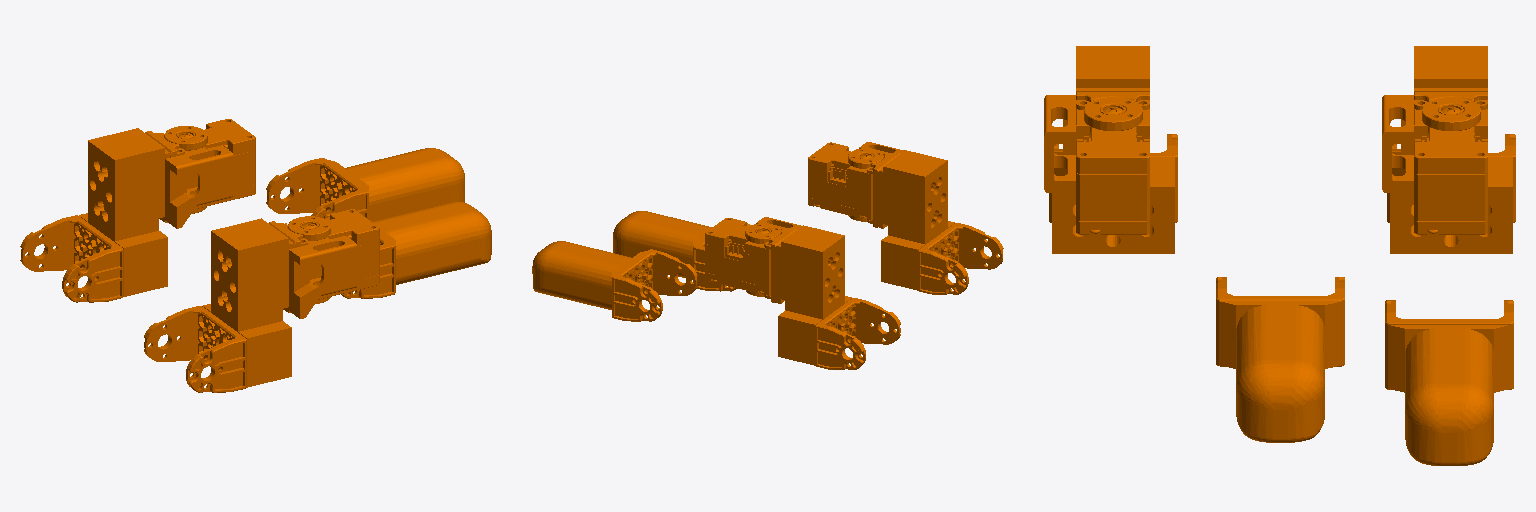
URDF robot description (onshape):
<robot name="onshape">
  <link name="palm_lower">
    <inertial>
      <origin xyz="0.0 0.0 0.0" rpy="0.0 -0.0 0.0"/>
      <mass value="0.237"/>
      <inertia ixx="0.000354094" ixy="-1.193e-06" ixz="-2.445e-06" iyy="0.000260915" iyz="-2.905e-06" izz="0.000529257"/>
    </inertial>
    <visual>
      <geometry>
        <mesh filename="../assets/leap/leap_hand/palm_lower.stl"/>
      </geometry>
      <origin xyz="-0.020095249652862544 0.025757756134899473 -0.034722403578460216" rpy="0.0 -0.0 0.0"/>
      <material name="palm_lower_material">
        <color rgba="0.6039215686274509 0.14901960784313725 0.14901960784313725 1.0"/>
      </material>
    </visual>
    <collision>
      <geometry>
        <mesh filename="../assets/leap/leap_hand/palm_lower.stl"/>
      </geometry>
      <origin xyz="-0.020095249652862544 0.025757756134899473 -0.034722403578460216" rpy="0.0 -0.0 0.0"/>
    </collision>
  </link>
  <link name="mcp_joint_long">
    <inertial>
      <origin xyz="0.0 0.0 0.0" rpy="0.0 -0.0 0.0"/>
      <mass value="0.044"/>
      <inertia ixx="1.1499e-05" ixy="3.049e-06" ixz="1.21e-07" iyy="7.796e-06" iyz="1.12e-07" izz="1.4759e-05"/>
    </inertial>
    <visual>
      <geometry>
        <mesh filename="custom_models/mcp_joint_long.stl"/>
      </geometry>
      <origin xyz="0.008406902261174496 0.0077662438597169954 0.014657354985032912" rpy="1.6375789613221e-15 -1.021047330249102e-30 1.7177968783327987e-31"/>
      <material name="mcp_joint_material">
        <color rgba="0.878 0.467 0.0 1.0"/>
      </material>
    </visual>
    <collision>
      <geometry>
        <mesh filename="custom_models/mcp_joint_long.stl"/>
      </geometry>
      <origin xyz="0.008406902261174496 0.0077662438597169954 0.014657354985032912" rpy="1.6375789613221e-15 -1.021047330249102e-30 1.7177968783327987e-31"/>
    </collision>
  </link>
  <link name="pip">
    <inertial>
      <origin xyz="0.0 0.0 0.0" rpy="0.0 -0.0 0.0"/>
      <mass value="0.032"/>
      <inertia ixx="4.798e-06" ixy="1.2e-08" ixz="4e-09" iyy="2.862e-06" iyz="1.1e-08" izz="4.234e-06"/>
    </inertial>
    <visual>
      <geometry>
        <mesh filename="../assets/leap/leap_hand/pip.stl"/>
      </geometry>
      <origin xyz="0.009643363092271328 0.0002999999999999895 0.0007840340104173765" rpy="-1.5707963267948966 -1.5707963267948963 0.0"/>
      <material name="pip_material">
        <color rgba="0.7490196078431373 0.7490196078431373 0.7490196078431373 1.0"/>
      </material>
    </visual>
    <collision>
      <geometry>
        <mesh filename="../assets/leap/leap_hand/pip.stl"/>
      </geometry>
      <origin xyz="0.009643363092271328 0.0002999999999999895 0.0007840340104173765" rpy="-1.5707963267948966 -1.5707963267948963 0.0"/>
    </collision>
  </link>
  <link name="dip">
    <inertial>
      <origin xyz="0.0 0.0 0.0" rpy="0.0 -0.0 0.0"/>
      <mass value="0.037"/>
      <inertia ixx="5.542e-06" ixy="-6.07e-07" ixz="-1.7e-08" iyy="5.727e-06" iyz="-2.3e-08" izz="6.682e-06"/>
    </inertial>
    <visual>
      <geometry>
        <mesh filename="../assets/leap/leap_hand/dip.stl"/>
      </geometry>
      <origin xyz="0.021133352895225003 -0.00843211914670488 0.00978508816209524" rpy="-3.141592653589793 4.507511124216441e-32 4.439548105392361e-32"/>
      <material name="dip_material">
        <color rgba="0.8666666666666667 0.8666666666666667 0.050980392156862744 1.0"/>
      </material>
    </visual>
    <collision>
      <geometry>
        <mesh filename="../assets/leap/leap_hand/dip.stl"/>
      </geometry>
      <origin xyz="0.021133352895225003 -0.00843211914670488 0.00978508816209524" rpy="-3.141592653589793 4.507511124216441e-32 4.439548105392361e-32"/>
    </collision>
  </link>
  <link name="fingertip_long">
    <inertial>
      <origin xyz="0.0 0.0 0.0" rpy="0.0 -0.0 0.0"/>
      <mass value="0.016"/>
      <inertia ixx="3.368e-06" ixy="1.15e-07" ixz="0.0" iyy="1.556e-06" iyz="0.0" izz="2.863e-06"/>
    </inertial>
    <visual>
      <geometry>
        <mesh filename="custom_models/fingertip_long.stl"/>
      </geometry>
      <origin xyz="0.013286424108533503 -0.006114238386541987 0.014499999999999498" rpy="3.141592653589793 1.1993117970061735e-33 4.439548105392361e-32"/>
      <material name="fingertip_material">
        <color rgba="0.878 0.467 0.0 1.0"/>
      </material>
    </visual>
    <collision>
      <geometry>
        <mesh filename="custom_models/fingertip_long.stl"/>
      </geometry>
      <origin xyz="0.013286424108533503 -0.006114238386541987 0.014499999999999498" rpy="3.141592653589793 1.1993117970061735e-33 4.439548105392361e-32"/>
    </collision>
  </link>
  <link name="pip_4">
    <inertial>
      <origin xyz="0.0 0.0 0.0" rpy="0.0 -0.0 0.0"/>
      <mass value="0.032"/>
      <inertia ixx="4.798e-06" ixy="1.2e-08" ixz="4e-09" iyy="2.862e-06" iyz="1.1e-08" izz="4.234e-06"/>
    </inertial>
    <visual>
      <geometry>
        <mesh filename="../assets/leap/leap_hand/pip.stl"/>
      </geometry>
      <origin xyz="-0.005356636907728671 0.0002999999999999999 0.0007840340104173782" rpy="-1.5707963267948966 -1.5707963267948963 0.0"/>
      <material name="pip_material">
        <color rgba="0.7490196078431373 0.7490196078431373 0.7490196078431373 1.0"/>
      </material>
    </visual>
    <collision>
      <geometry>
        <mesh filename="../assets/leap/leap_hand/pip.stl"/>
      </geometry>
      <origin xyz="-0.005356636907728671 0.0002999999999999999 0.0007840340104173782" rpy="-1.5707963267948966 -1.5707963267948963 0.0"/>
    </collision>
  </link>
  <link name="thumb_pip">
    <inertial>
      <origin xyz="0.0 0.0 0.0" rpy="0.0 -0.0 0.0"/>
      <mass value="0.003"/>
      <inertia ixx="5.93e-07" ixy="0.0" ixz="0.0" iyy="5.49e-07" iyz="0.0" izz="2.24e-07"/>
    </inertial>
    <visual>
      <geometry>
        <mesh filename="../assets/leap/leap_hand/thumb_pip.stl"/>
      </geometry>
      <origin xyz="0.011961920770611187 -5.30825383648903e-16 -0.0158526489566642" rpy="1.5707963267948966 1.6050198443300153e-46 -3.9204996250525193e-59"/>
      <material name="thumb_pip_material">
        <color rgba="0.8666666666666667 0.8666666666666667 0.050980392156862744 1.0"/>
      </material>
    </visual>
    <collision>
      <geometry>
        <mesh filename="../assets/leap/leap_hand/thumb_pip.stl"/>
      </geometry>
      <origin xyz="0.011961920770611187 -5.30825383648903e-16 -0.0158526489566642" rpy="1.5707963267948966 1.6050198443300153e-46 -3.9204996250525193e-59"/>
    </collision>
  </link>
  <link name="thumb_dip">
    <inertial>
      <origin xyz="0.0 0.0 0.0" rpy="0.0 -0.0 0.0"/>
      <mass value="0.038"/>
      <inertia ixx="8.474e-06" ixy="2.41e-07" ixz="2.6e-08" iyy="3.841e-06" iyz="2.5e-08" izz="7.679e-06"/>
    </inertial>
    <visual>
      <geometry>
        <mesh filename="../assets/leap/leap_hand/thumb_dip.stl"/>
      </geometry>
      <origin xyz="0.043968715707239175 0.0579529529737092 -0.008628676449369476" rpy="1.94289029309401e-16 3.27515792264422e-15 1.112375852965736e-46"/>
      <material name="thumb_dip_material">
        <color rgba="0.8666666666666667 0.8666666666666667 0.050980392156862744 1.0"/>
      </material>
    </visual>
    <collision>
      <geometry>
        <mesh filename="../assets/leap/leap_hand/thumb_dip.stl"/>
      </geometry>
      <origin xyz="0.043968715707239175 0.0579529529737092 -0.008628676449369476" rpy="1.94289029309401e-16 3.27515792264422e-15 1.112375852965736e-46"/>
    </collision>
  </link>
  <link name="thumb_fingertip">
    <inertial>
      <origin xyz="0.0 0.0 0.0" rpy="0.0 -0.0 0.0"/>
      <mass value="0.049"/>
      <inertia ixx="2.0372e-05" ixy="-4.89e-07" ixz="-3e-08" iyy="4.336e-06" iyz="-9.7e-08" izz="1.9845e-05"/>
    </inertial>
    <visual>
      <geometry>
        <mesh filename="../assets/leap/leap_hand/thumb_fingertip.stl"/>
      </geometry>
      <origin xyz="0.06255953846266739 0.07845968291139699 0.048992911807332215" rpy="4.379057701015637e-47 -3.33066907387547e-16 1.2042408677791935e-46"/>
      <material name="thumb_fingertip_material">
        <color rgba="0.6039215686274509 0.14901960784313725 0.14901960784313725 1.0"/>
      </material>
    </visual>
    <collision>
      <geometry>
        <mesh filename="../assets/leap/leap_hand/thumb_fingertip.stl"/>
      </geometry>
      <origin xyz="0.06255953846266739 0.07845968291139699 0.048992911807332215" rpy="4.379057701015637e-47 -3.33066907387547e-16 1.2042408677791935e-46"/>
    </collision>
  </link>
  <link name="mcp_joint_2">
    <inertial>
      <origin xyz="0.0 0.0 0.0" rpy="0.0 -0.0 0.0"/>
      <mass value="0.044"/>
      <inertia ixx="1.1499e-05" ixy="3.049e-06" ixz="1.21e-07" iyy="7.796e-06" iyz="1.12e-07" izz="1.4759e-05"/>
    </inertial>
    <visual>
      <geometry>
        <mesh filename="../assets/leap/leap_hand/mcp_joint.stl"/>
      </geometry>
      <origin xyz="0.008406902261174496 0.0077662438597169954 0.014657354985032914" rpy="1.6375789613221e-15 -1.0076465469034e-30 2.1209300131419907e-61"/>
      <material name="mcp_joint_material">
        <color rgba="0.8666666666666667 0.8666666666666667 0.050980392156862744 1.0"/>
      </material>
    </visual>
    <collision>
      <geometry>
        <mesh filename="../assets/leap/leap_hand/mcp_joint.stl"/>
      </geometry>
      <origin xyz="0.008406902261174496 0.0077662438597169954 0.014657354985032914" rpy="1.6375789613221e-15 -1.0076465469034e-30 2.1209300131419907e-61"/>
    </collision>
  </link>
  <link name="pip_2">
    <inertial>
      <origin xyz="0.0 0.0 0.0" rpy="0.0 -0.0 0.0"/>
      <mass value="0.032"/>
      <inertia ixx="4.798e-06" ixy="1.2e-08" ixz="4e-09" iyy="2.862e-06" iyz="1.1e-08" izz="4.234e-06"/>
    </inertial>
    <visual>
      <geometry>
        <mesh filename="../assets/leap/leap_hand/pip.stl"/>
      </geometry>
      <origin xyz="0.009643363092271328 0.0002999999999999947 0.0007840340104173765" rpy="-1.5707963267948966 -1.5707963267948963 0.0"/>
      <material name="pip_material">
        <color rgba="0.7490196078431373 0.7490196078431373 0.7490196078431373 1.0"/>
      </material>
    </visual>
    <collision>
      <geometry>
        <mesh filename="../assets/leap/leap_hand/pip.stl"/>
      </geometry>
      <origin xyz="0.009643363092271328 0.0002999999999999947 0.0007840340104173765" rpy="-1.5707963267948966 -1.5707963267948963 0.0"/>
    </collision>
  </link>
  <link name="dip_2">
    <inertial>
      <origin xyz="0.0 0.0 0.0" rpy="0.0 -0.0 0.0"/>
      <mass value="0.037"/>
      <inertia ixx="5.542e-06" ixy="-6.07e-07" ixz="-1.7e-08" iyy="5.727e-06" iyz="-2.3e-08" izz="6.682e-06"/>
    </inertial>
    <visual>
      <geometry>
        <mesh filename="../assets/leap/leap_hand/dip.stl"/>
      </geometry>
      <origin xyz="0.021133352895225003 -0.008432119146704865 0.009785088162095237" rpy="-3.141592653589793 2.1146933785271956e-32 1.4408183216511869e-31"/>
      <material name="dip_material">
        <color rgba="0.8666666666666667 0.8666666666666667 0.050980392156862744 1.0"/>
      </material>
    </visual>
    <collision>
      <geometry>
        <mesh filename="../assets/leap/leap_hand/dip.stl"/>
      </geometry>
      <origin xyz="0.021133352895225003 -0.008432119146704865 0.009785088162095237" rpy="-3.141592653589793 2.1146933785271956e-32 1.4408183216511869e-31"/>
    </collision>
  </link>
  <link name="fingertip_2_long">
    <inertial>
      <origin xyz="0.0 0.0 0.0" rpy="0.0 -0.0 0.0"/>
      <mass value="0.016"/>
      <inertia ixx="3.368e-06" ixy="1.15e-07" ixz="0.0" iyy="1.556e-06" iyz="0.0" izz="2.863e-06"/>
    </inertial>
    <visual>
      <geometry>
        <mesh filename="custom_models/fingertip_long.stl"/>
      </geometry>
      <origin xyz="0.013286424108533496 -0.006114238386542001 0.014499999999999496" rpy="3.141592653589793 -4.317959788283594e-33 1.4408183216511869e-31"/>
      <material name="fingertip_material">
        <color rgba="0.878 0.467 0.0 1.0"/>
      </material>
    </visual>
    <collision>
      <geometry>
        <mesh filename="custom_models/fingertip_long.stl"/>
      </geometry>
      <origin xyz="0.013286424108533496 -0.006114238386542001 0.014499999999999496" rpy="3.141592653589793 -4.317959788283594e-33 1.4408183216511869e-31"/>
    </collision>
  </link>
  <link name="mcp_joint_3_long">
    <inertial>
      <origin xyz="0.0 0.0 0.0" rpy="0.0 -0.0 0.0"/>
      <mass value="0.044"/>
      <inertia ixx="1.1499e-05" ixy="3.049e-06" ixz="1.21e-07" iyy="7.796e-06" iyz="1.12e-07" izz="1.4759e-05"/>
    </inertial>
    <visual>
      <geometry>
        <mesh filename="custom_models/mcp_joint_long.stl"/>
      </geometry>
      <origin xyz="0.0084069022611745 0.007766243859716996 0.014657354985032914" rpy="1.6375789613221e-15 -1.0059504988632627e-30 5.729641584552035e-32"/>
      <material name="mcp_joint_material">
        <color rgba="0.878 0.467 0.0 1.0"/>
      </material>
    </visual>
    <collision>
      <geometry>
        <mesh filename="custom_models/mcp_joint_long.stl"/>
      </geometry>
      <origin xyz="0.0084069022611745 0.007766243859716996 0.014657354985032914" rpy="1.6375789613221e-15 -1.0059504988632627e-30 5.729641584552035e-32"/>
    </collision>
  </link>
  <link name="pip_3">
    <inertial>
      <origin xyz="0.0 0.0 0.0" rpy="0.0 -0.0 0.0"/>
      <mass value="0.032"/>
      <inertia ixx="4.798e-06" ixy="1.2e-08" ixz="4e-09" iyy="2.862e-06" iyz="1.1e-08" izz="4.234e-06"/>
    </inertial>
    <visual>
      <geometry>
        <mesh filename="../assets/leap/leap_hand/pip.stl"/>
      </geometry>
      <origin xyz="0.009643363092271331 0.00029999999999998084 0.0007840340104173765" rpy="-1.5707963267948966 -1.5707963267948963 0.0"/>
      <material name="pip_material">
        <color rgba="0.7490196078431373 0.7490196078431373 0.7490196078431373 1.0"/>
      </material>
    </visual>
    <collision>
      <geometry>
        <mesh filename="../assets/leap/leap_hand/pip.stl"/>
      </geometry>
      <origin xyz="0.009643363092271331 0.00029999999999998084 0.0007840340104173765" rpy="-1.5707963267948966 -1.5707963267948963 0.0"/>
    </collision>
  </link>
  <link name="dip_3">
    <inertial>
      <origin xyz="0.0 0.0 0.0" rpy="0.0 -0.0 0.0"/>
      <mass value="0.037"/>
      <inertia ixx="5.542e-06" ixy="-6.07e-07" ixz="-1.7e-08" iyy="5.727e-06" iyz="-2.3e-08" izz="6.682e-06"/>
    </inertial>
    <visual>
      <geometry>
        <mesh filename="../assets/leap/leap_hand/dip.stl"/>
      </geometry>
      <origin xyz="0.021133352895225006 -0.008432119146704865 0.009785088162095237" rpy="-3.141592653589793 -1.4095651113919093e-33 1.5565411607615035e-32"/>
      <material name="dip_material">
        <color rgba="0.8666666666666667 0.8666666666666667 0.050980392156862744 1.0"/>
      </material>
    </visual>
    <collision>
      <geometry>
        <mesh filename="../assets/leap/leap_hand/dip.stl"/>
      </geometry>
      <origin xyz="0.021133352895225006 -0.008432119146704865 0.009785088162095237" rpy="-3.141592653589793 -1.4095651113919093e-33 1.5565411607615035e-32"/>
    </collision>
  </link>
  <link name="fingertip_3">
    <inertial>
      <origin xyz="0.0 0.0 0.0" rpy="0.0 -0.0 0.0"/>
      <mass value="0.016"/>
      <inertia ixx="3.368e-06" ixy="1.15e-07" ixz="0.0" iyy="1.556e-06" iyz="0.0" izz="2.863e-06"/>
    </inertial>
    <visual>
      <geometry>
        <mesh filename="../assets/leap/leap_hand/fingertip.stl"/>
      </geometry>
      <origin xyz="0.013286424108533501 -0.006114238386541987 0.0144999999999995" rpy="3.141592653589793 8.61707169505754e-33 1.5565411607615035e-32"/>
      <material name="fingertip_material">
        <color rgba="0.8666666666666667 0.8666666666666667 0.050980392156862744 1.0"/>
      </material>
    </visual>
    <collision>
      <geometry>
        <mesh filename="../assets/leap/leap_hand/fingertip.stl"/>
      </geometry>
      <origin xyz="0.013286424108533501 -0.006114238386541987 0.0144999999999995" rpy="3.141592653589793 8.61707169505754e-33 1.5565411607615035e-32"/>
    </collision>
  </link>
  <joint name="1" type="revolute">
    <parent link="palm_lower"/>
    <child link="mcp_joint_long"/>
    <origin xyz="-0.007095249652862546 0.023057756134899472 -0.01872240357846022" rpy="1.570796326794895 1.5707963267948946 0.0"/>
    <axis xyz="0.0 0.0 -1.0"/>
    <limit effort="0.95" velocity="8.48" lower="-0.314" upper="2.23"/>
  </joint>
  <joint name="0" type="revolute">
    <parent link="mcp_joint_long"/>
    <child link="pip"/>
    <origin xyz="-0.012200000000000007713 0.053099999999999994982 0.014500000000000000736" rpy="-1.5707963267948966 -1.0065212660796337e-15 1.5707963267948943"/>
    <axis xyz="0.0 0.0 -1.0"/>
    <limit effort="0.95" velocity="8.48" lower="-1.047" upper="1.047"/>
  </joint>
  <joint name="2" type="revolute">
    <parent link="pip"/>
    <child link="dip"/>
    <origin xyz="0.014999999999999968 0.014299999999999905 -0.012999999999999824" rpy="1.570796326794896 -1.5707963267948963 0.0"/>
    <axis xyz="0.0 0.0 -1.0"/>
    <limit effort="0.95" velocity="8.48" lower="-0.506" upper="1.885"/>
  </joint>
  <joint name="3" type="revolute">
    <parent link="dip"/>
    <child link="fingertip_long"/>
    <origin xyz="-4.088058249557269e-09 -0.03610000421036737 0.0002000000000000786" rpy="4.5935029425113685e-17 -2.8730071914463795e-16 4.439548105392361e-32"/>
    <axis xyz="0.0 0.0 -1.0"/>
    <limit effort="0.95" velocity="8.48" lower="-0.366" upper="2.042"/>
  </joint>
  <joint name="12" type="revolute">
    <parent link="palm_lower"/>
    <child link="pip_4"/>
    <origin xyz="-0.06939524965286253 -0.0012422438651005258 -0.021622403578460216" rpy="-8.238176646493942e-17 1.5707963267948957 0.0"/>
    <axis xyz="0.0 0.0 -1.0"/>
    <limit effort="0.95" velocity="8.48" lower="-0.349" upper="2.094"/>
  </joint>
  <joint name="13" type="revolute">
    <parent link="pip_4"/>
    <child link="thumb_pip"/>
    <origin xyz="-2.7755575615628914e-17 0.014300000000000005 -0.013000000000000012" rpy="1.570796326794896 -1.5707963267948963 0.0"/>
    <axis xyz="0.0 0.0 -1.0"/>
    <limit effort="0.95" velocity="8.48" lower="-0.47" upper="2.443"/>
  </joint>
  <joint name="14" type="revolute">
    <parent link="thumb_pip"/>
    <child link="thumb_dip"/>
    <origin xyz="0.0 0.014499999999999966 -0.017000000000000053" rpy="-1.5707963267948966 1.6050198443300131e-46 -1.9721522630516625e-31"/>
    <axis xyz="0.0 0.0 -1.0"/>
    <limit effort="0.95" velocity="8.48" lower="-1.2" upper="1.9"/>
  </joint>
  <joint name="15" type="revolute">
    <parent link="thumb_dip"/>
    <child link="thumb_fingertip"/>
    <origin xyz="-1.249000902703301e-16 0.046599999999999864 0.0001999999999999771" rpy="1.506395849149178e-44 5.423418723393526e-31 3.141592653589793"/>
    <axis xyz="0.0 0.0 -1.0"/>
    <limit effort="0.95" velocity="8.48" lower="-1.34" upper="1.88"/>
  </joint>
  <joint name="5" type="revolute">
    <parent link="palm_lower"/>
    <child link="mcp_joint_2"/>
    <origin xyz="-0.007095249652862546 -0.022392243865100525 -0.01872240357846022" rpy="1.570796326794895 1.5707963267948946 0.0"/>
    <axis xyz="0.0 0.0 -1.0"/>
    <limit effort="0.95" velocity="8.48" lower="-0.314" upper="2.23"/>
  </joint>
  <joint name="4" type="revolute">
    <parent link="mcp_joint_2"/>
    <child link="pip_2"/>
    <origin xyz="-0.012200000000000008 0.038099999999999995 0.0145" rpy="-1.5707963267948966 -1.0065212660796337e-15 1.5707963267948943"/>
    <axis xyz="0.0 0.0 -1.0"/>
    <limit effort="0.95" velocity="8.48" lower="-1.047" upper="1.047"/>
  </joint>
  <joint name="6" type="revolute">
    <parent link="pip_2"/>
    <child link="dip_2"/>
    <origin xyz="0.014999999999999968 0.014299999999999905 -0.012999999999999824" rpy="1.570796326794896 -1.5707963267948963 0.0"/>
    <axis xyz="0.0 0.0 -1.0"/>
    <limit effort="0.95" velocity="8.48" lower="-0.506" upper="1.885"/>
  </joint>
  <joint name="7" type="revolute">
    <parent link="dip_2"/>
    <child link="fingertip_2_long"/>
    <origin xyz="-4.088058249557269e-09 -0.03610000421036737 0.0002000000000000786" rpy="4.5935029425113685e-17 -2.8730071914463795e-16 4.439548105392361e-32"/>
    <axis xyz="0.0 0.0 -1.0"/>
    <limit effort="0.95" velocity="8.48" lower="-0.366" upper="2.042"/>
  </joint>
  <joint name="9" type="revolute">
    <parent link="palm_lower"/>
    <child link="mcp_joint_3_long"/>
    <origin xyz="-0.007095249652862546 -0.06784224386510052 -0.01872240357846022" rpy="1.570796326794895 1.5707963267948946 0.0"/>
    <axis xyz="0.0 0.0 -1.0"/>
    <limit effort="0.95" velocity="8.48" lower="-0.314" upper="2.23"/>
  </joint>
  <joint name="8" type="revolute">
    <parent link="mcp_joint_3_long"/>
    <child link="pip_3"/>
    <origin xyz="-0.012200000000000007713 0.053099999999999994982 0.014500000000000000736" rpy="-1.5707963267948966 -1.0065212660796337e-15 1.5707963267948943"/>
    <axis xyz="0.0 0.0 -1.0"/>
    <limit effort="0.95" velocity="8.48" lower="-1.047" upper="1.047"/>
  </joint>
  <joint name="10" type="revolute">
    <parent link="pip_3"/>
    <child link="dip_3"/>
    <origin xyz="0.014999999999999968 0.014299999999999905 -0.012999999999999824" rpy="1.570796326794896 -1.5707963267948963 0.0"/>
    <axis xyz="0.0 0.0 -1.0"/>
    <limit effort="0.95" velocity="8.48" lower="-0.506" upper="1.885"/>
  </joint>
  <joint name="11" type="revolute">
    <parent link="dip_3"/>
    <child link="fingertip_3"/>
    <origin xyz="-4.088058249557269e-09 -0.03610000421036737 0.0002000000000000786" rpy="4.5935029425113685e-17 -2.8730071914463795e-16 4.439548105392361e-32"/>
    <axis xyz="0.0 0.0 -1.0"/>
    <limit effort="0.95" velocity="8.48" lower="-0.366" upper="2.042"/>
  </joint>
</robot>

--- Facts derived from the render (not from the file) ---
The picture shows the robot from 3 angles, left to right: view 1: azimuth 30°, elevation 25°; view 2: azimuth 150°, elevation 25°; view 3: azimuth 270°, elevation 25°; orthographic projection.
Model onshape with 17 links and 16 joints (16 revolute), rooted at palm_lower, posed all joints at 0.
Visible links, largest first — view 1: mcp_joint_3_long, mcp_joint_long, fingertip_long, fingertip_2_long; view 2: mcp_joint_long, mcp_joint_3_long, fingertip_long, fingertip_2_long; view 3: mcp_joint_long, mcp_joint_3_long, fingertip_long, fingertip_2_long.
Link boxes in pixels (x1,y1,x2,y2): mcp_joint_3_long: [144, 209, 379, 392]; mcp_joint_long: [20, 119, 255, 302]; fingertip_long: [266, 148, 464, 221]; fingertip_2_long: [326, 202, 491, 298]; mcp_joint_long: [705, 217, 900, 369]; mcp_joint_3_long: [808, 142, 1003, 294]; fingertip_long: [532, 241, 697, 321]; fingertip_2_long: [613, 211, 750, 291]; mcp_joint_long: [1382, 46, 1515, 253]; mcp_joint_3_long: [1044, 46, 1177, 253]; fingertip_long: [1385, 300, 1513, 465]; fingertip_2_long: [1216, 277, 1344, 442].
Size in the robot's own frame: 0.1766 by 0.1267 by 0.0549 metres.
4 mesh visuals loaded from 10 distinct referenced files (2 binary STL); not drawn: 13 (reference not matched to a file when rendering).